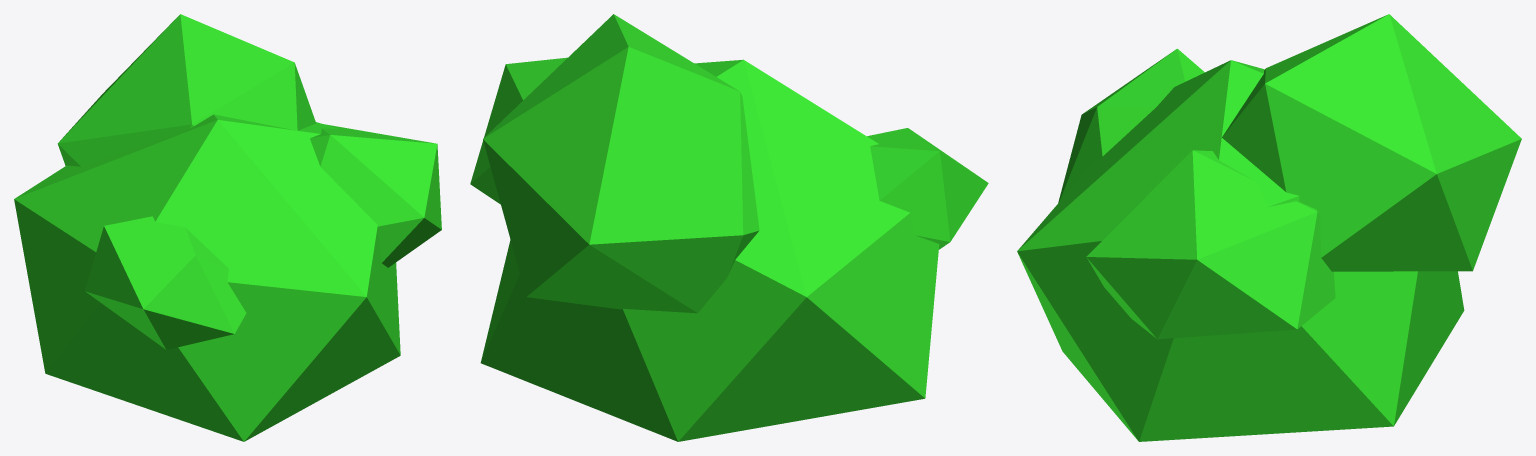
Rendered from Small Uneven Bush.fbx.
3 views of the same model, side by side, from view 1: azimuth 30°, elevation 25°; view 2: azimuth 150°, elevation 25°; view 3: azimuth 270°, elevation 25° (orthographic). The views are drawn at different scales.
Parts seen in each view (by area): view 1: Small Uneven Bush; view 2: Small Uneven Bush; view 3: Small Uneven Bush.
Boxes of the visible parts, left/top/right/bottom form: Small Uneven Bush: left=14, top=14, right=441, bottom=441; Small Uneven Bush: left=470, top=14, right=988, bottom=441; Small Uneven Bush: left=1017, top=14, right=1521, bottom=441.
Size of the model in its own units: 200 by 164 by 197.
